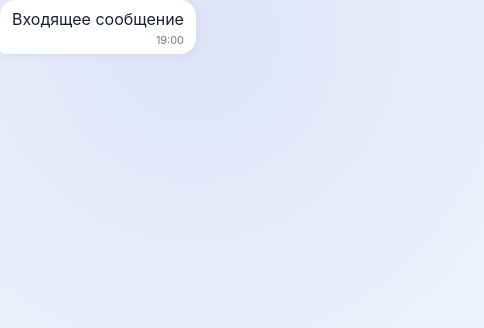
message context menu › opens after a long press and cancels after pointer movement
Later steps or results of the test are not shown.
Expected: the text "Входящее сообщение" is shown, [12,9,184,29]
Press the mouse on the text "Входящее сообщение": (98, 27) [0,0,196,54]
Wait 500 ms
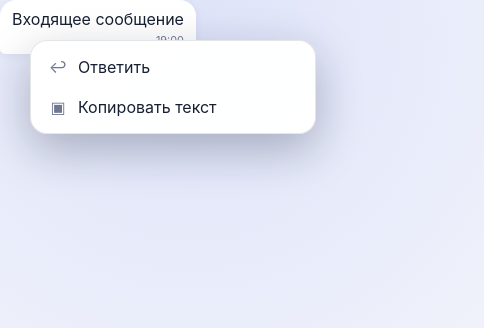
Expected: the menu is shown, [30,40,316,134]
